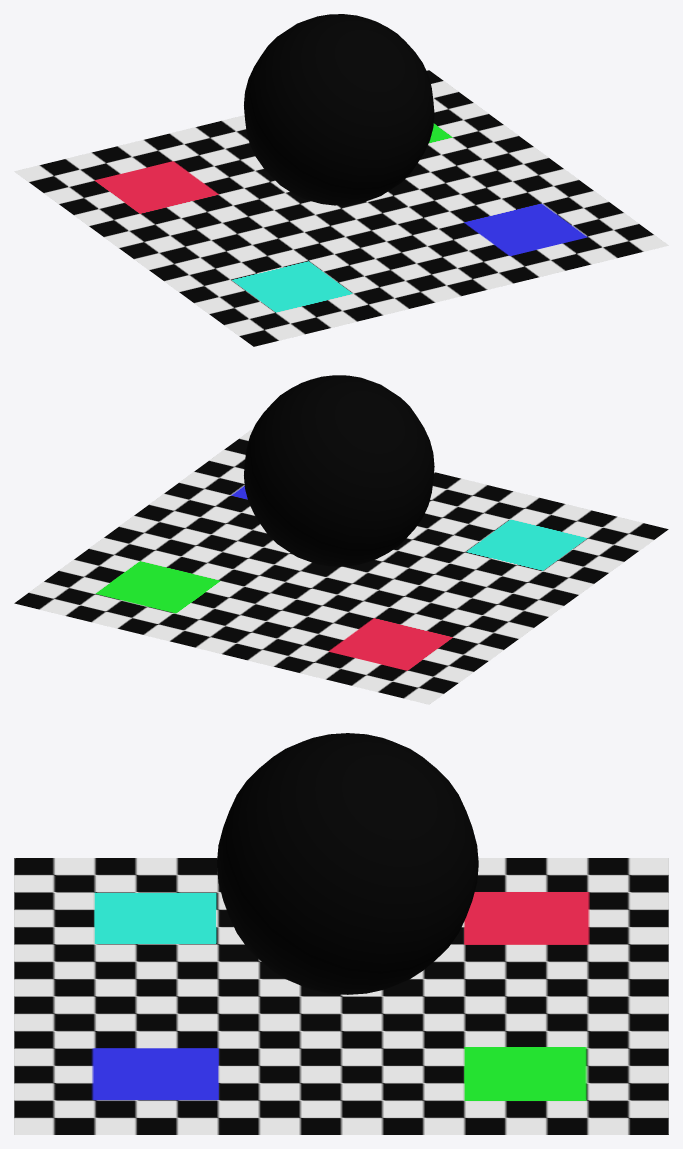
File: ref.fbx
3 renders of one model, top to bottom at view 1: azimuth 30°, elevation 25°; view 2: azimuth 150°, elevation 25°; view 3: azimuth 270°, elevation 25°, orthographic. The views are drawn at different scales.
Parts seen in each view (by area): view 1: polySurface5; view 2: polySurface5; view 3: polySurface5.
Boxes of the visible parts, box(x1,y1,x2,y2) form: polySurface5: box(14, 14, 668, 346); polySurface5: box(14, 375, 668, 704); polySurface5: box(14, 733, 668, 1134).
Size of the model in its own units: 50 by 21.17 by 50.
2 materials, 1 textured.
